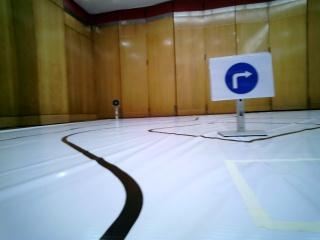right: (212, 59, 274, 98)
